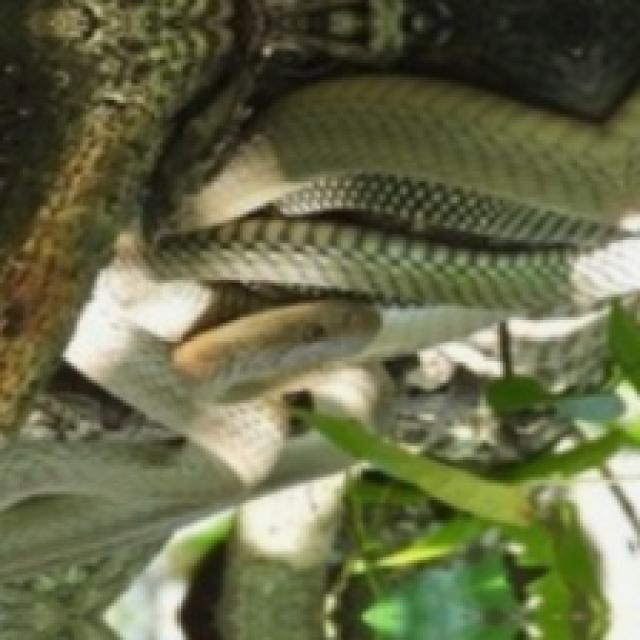king cobra: (0, 0, 637, 431)
